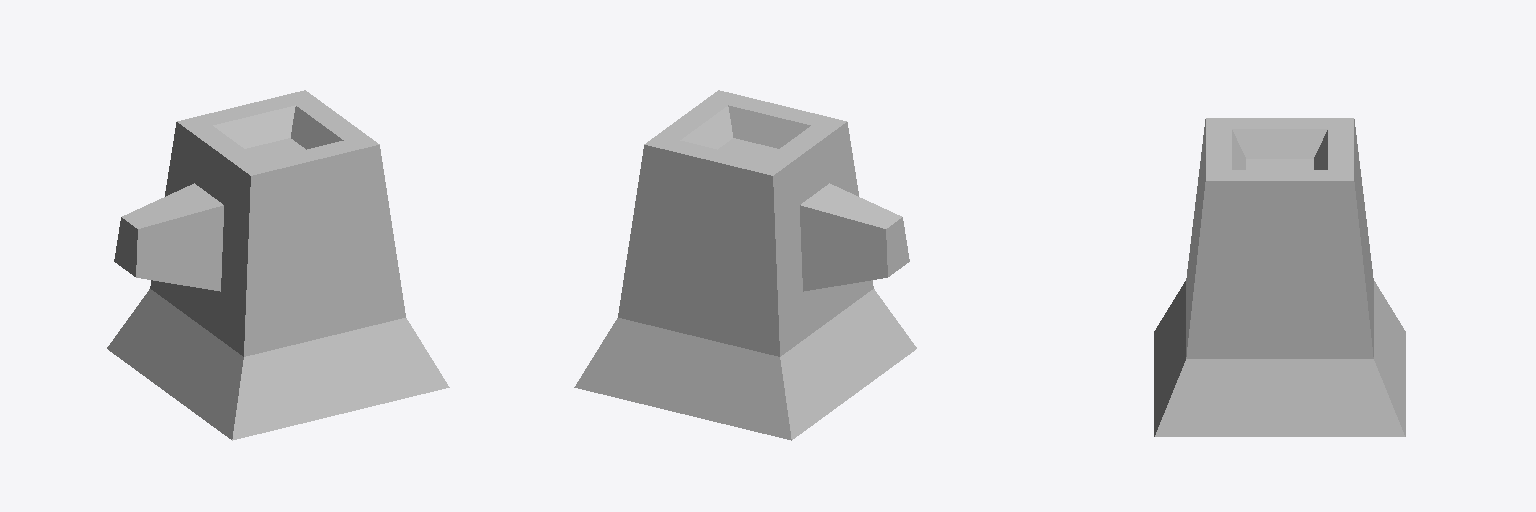
Rendered from treeStump_side.obj.
The picture shows the model from 3 angles: view 1: azimuth 30°, elevation 25°; view 2: azimuth 150°, elevation 25°; view 3: azimuth 270°, elevation 25°; orthographic projection.
Visible parts, largest first — view 1: treeStump_side; view 2: treeStump_side; view 3: treeStump_side.
Boxes of the visible parts, <box> form: treeStump_side: <box>107,90,449,440</box>; treeStump_side: <box>574,90,916,440</box>; treeStump_side: <box>1154,118,1405,436</box>.
Bounding box in the file's own units: 3.39 × 2.9 × 2.81.